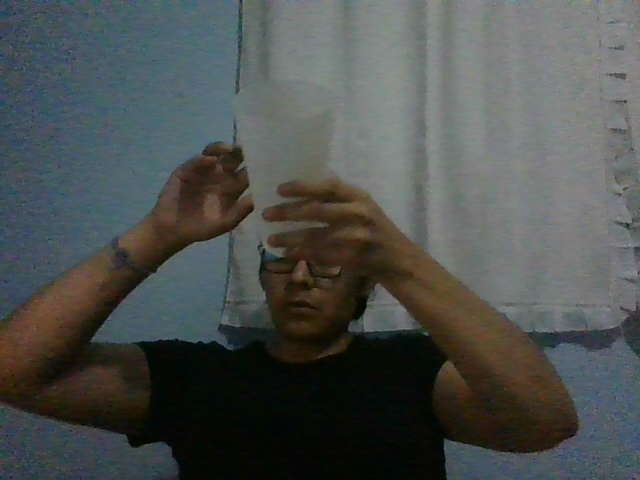vaso: (231, 79, 335, 257)
